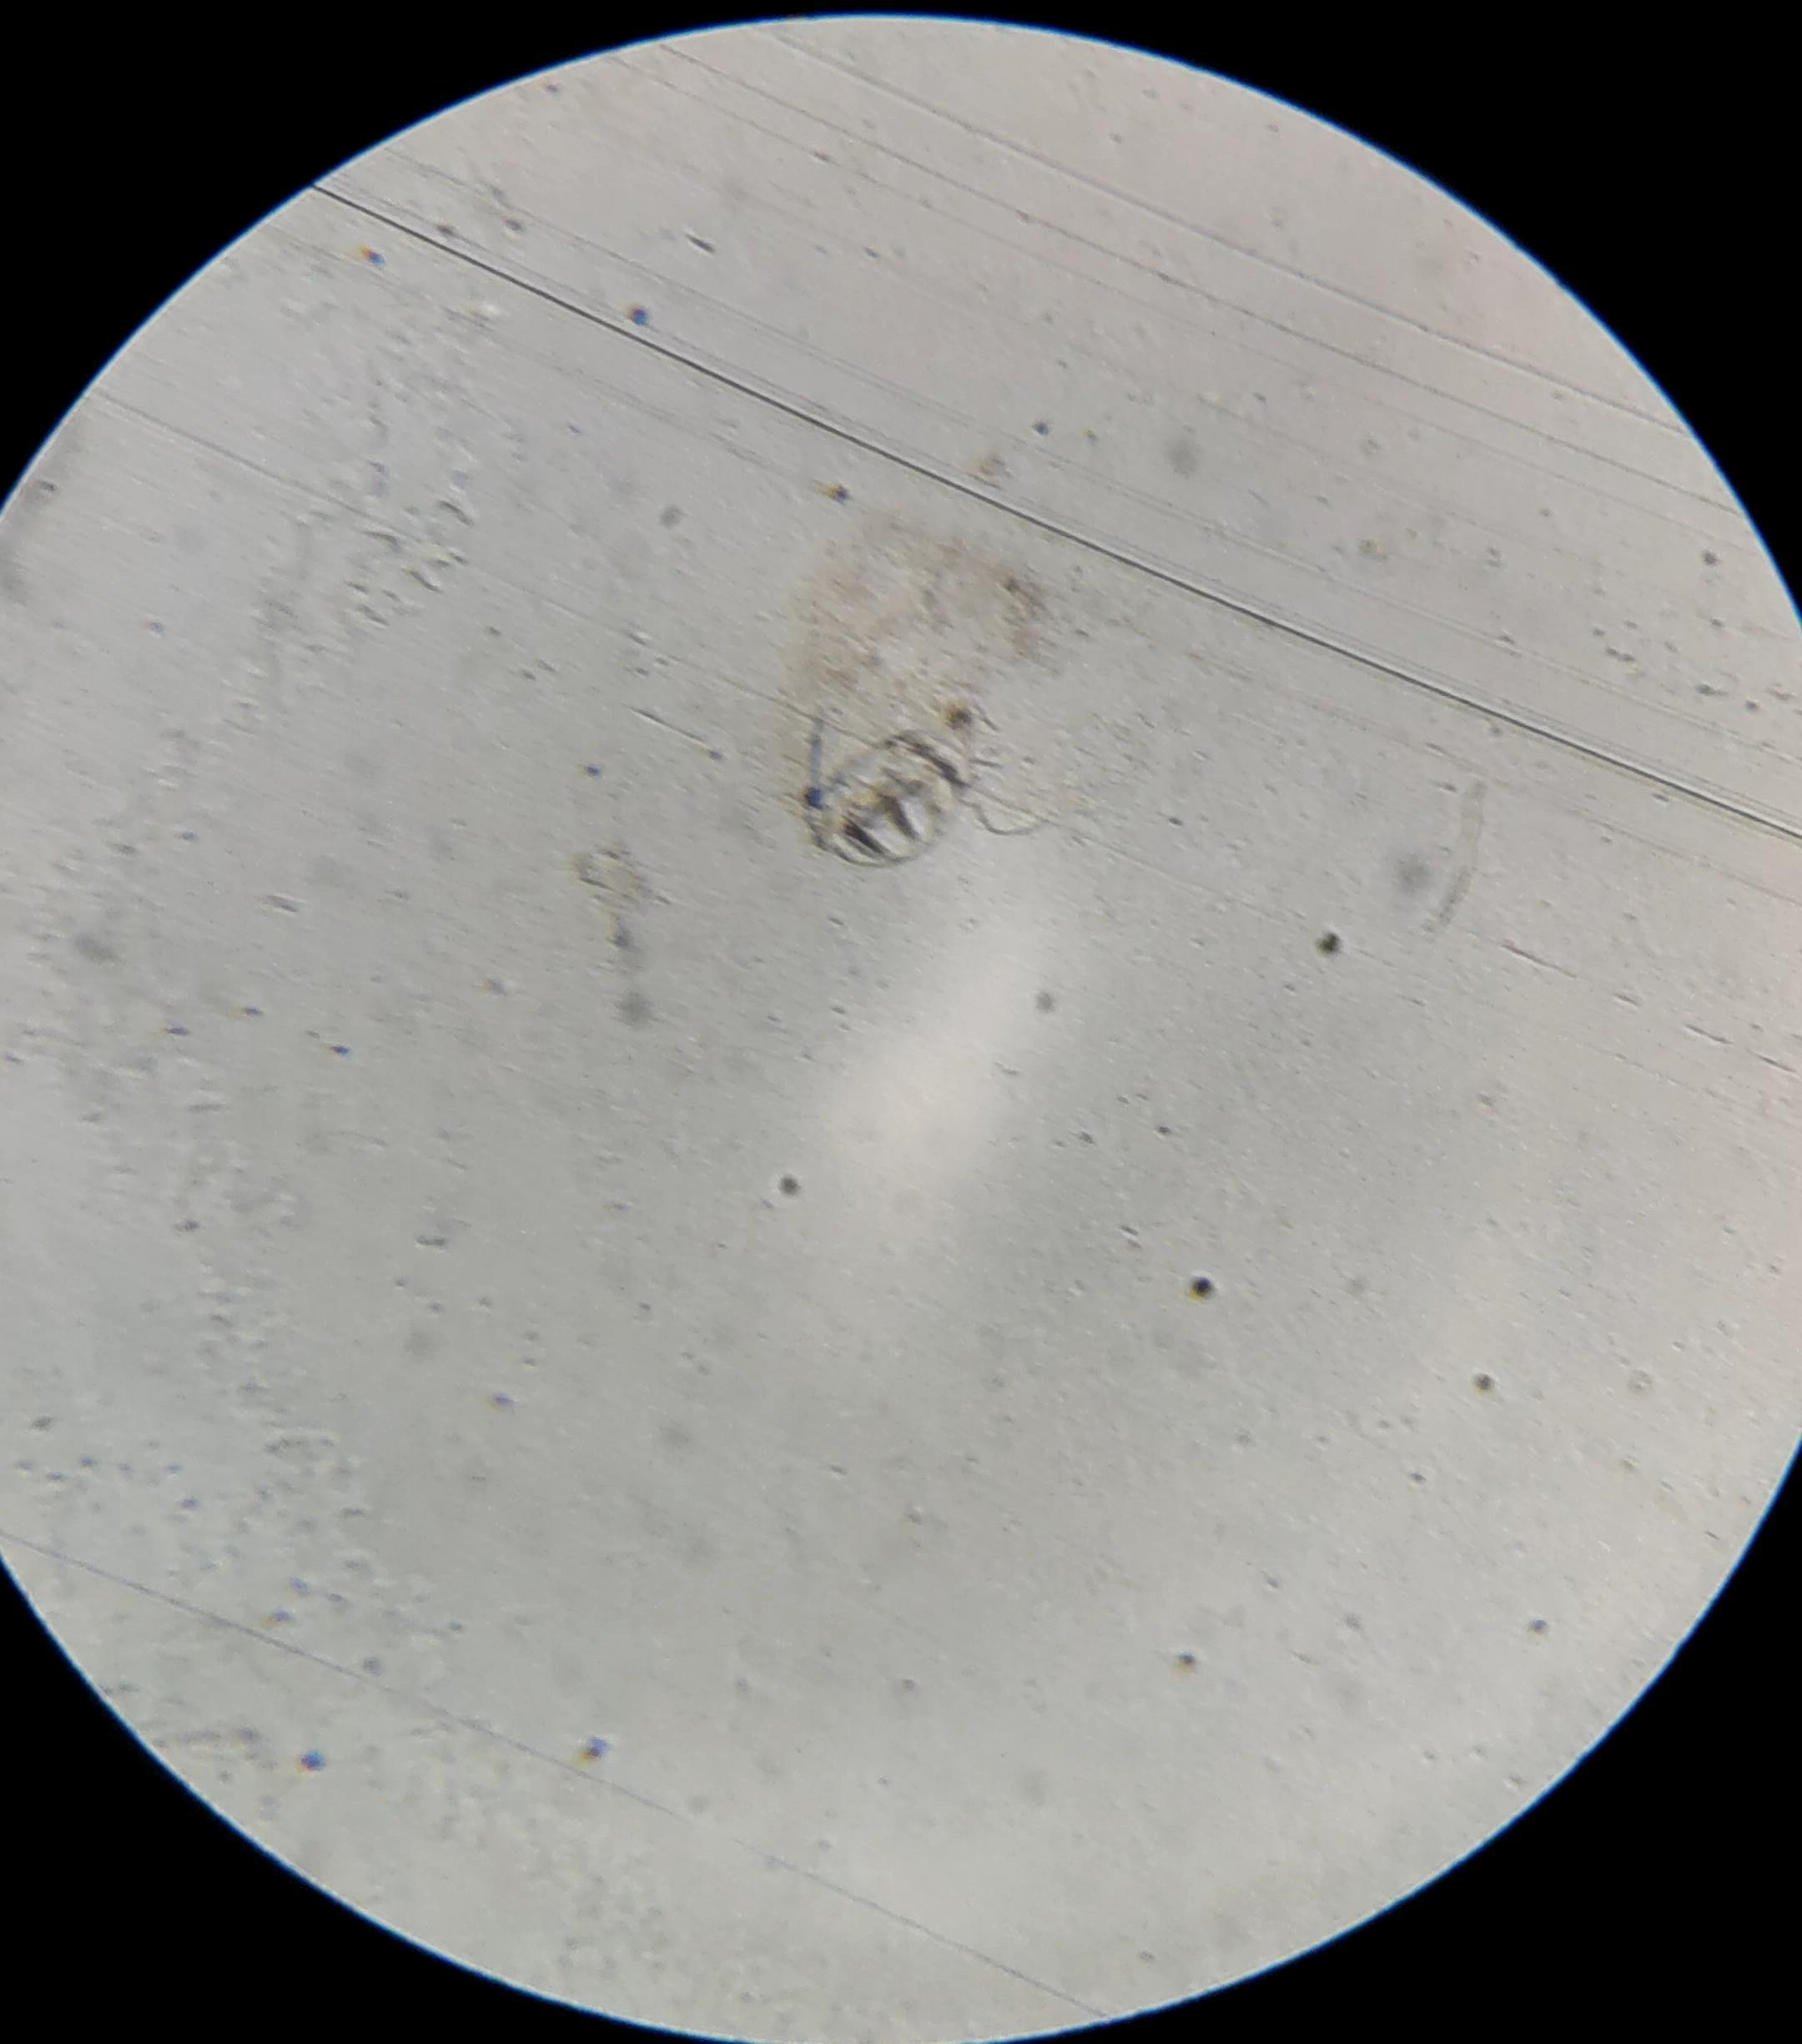Mo: (807, 706, 979, 866)
